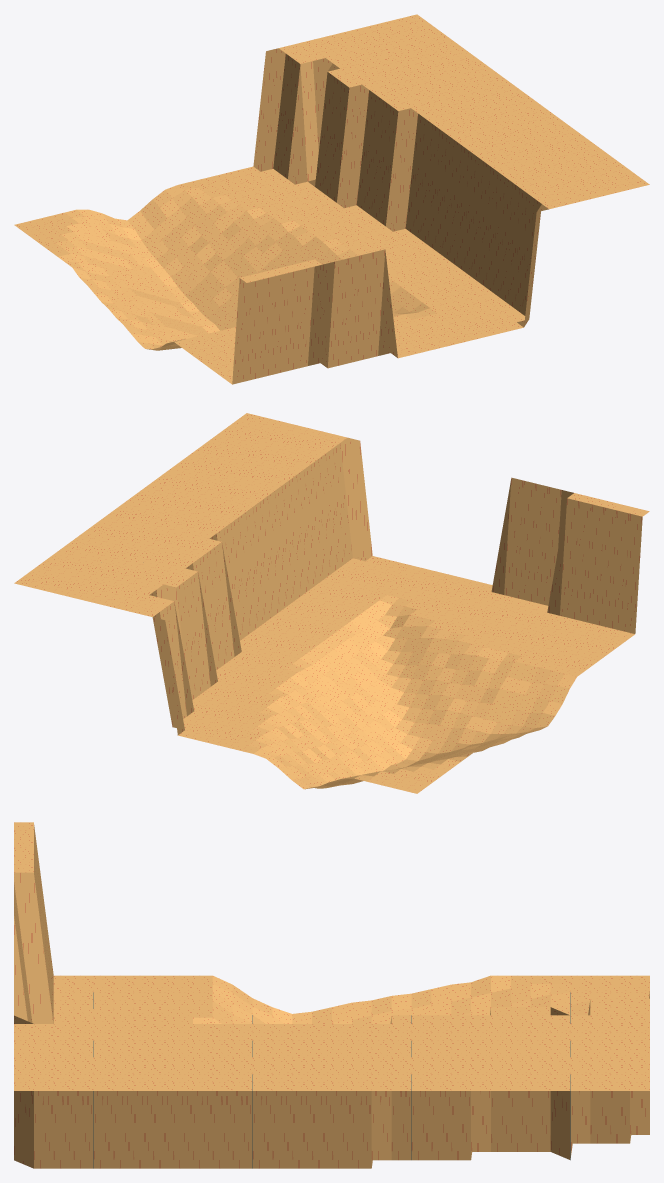
File: map_chunked_029.gltf
3 views of the same model, one above another, from view 1: azimuth 30°, elevation 25°; view 2: azimuth 150°, elevation 25°; view 3: azimuth 270°, elevation 25° (orthographic). The views are drawn at different scales.
Visible parts, largest first — view 1: map_chunked.029; view 2: map_chunked.029; view 3: map_chunked.029.
Part boxes in pixels (left/top/right/bottom): map_chunked.029: left=14, top=14, right=649, bottom=384; map_chunked.029: left=14, top=413, right=649, bottom=793; map_chunked.029: left=14, top=822, right=649, bottom=1168.
Size of the model in its own units: 32 by 13.65 by 32.
1 material, 1 textured.
